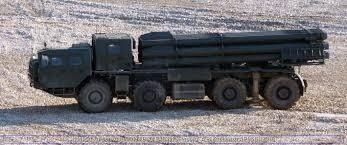MIL_SAM_TEL: (28, 24, 330, 109)
